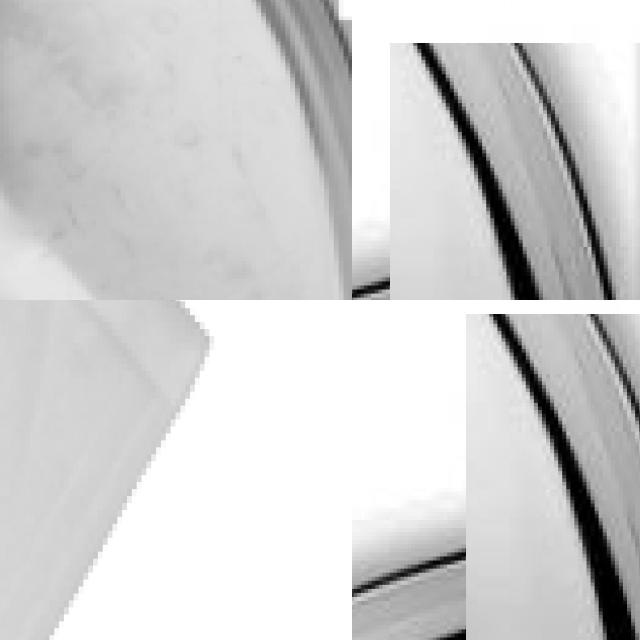spoons: (0, 0, 352, 300), (369, 411, 640, 640), (352, 140, 640, 300)
